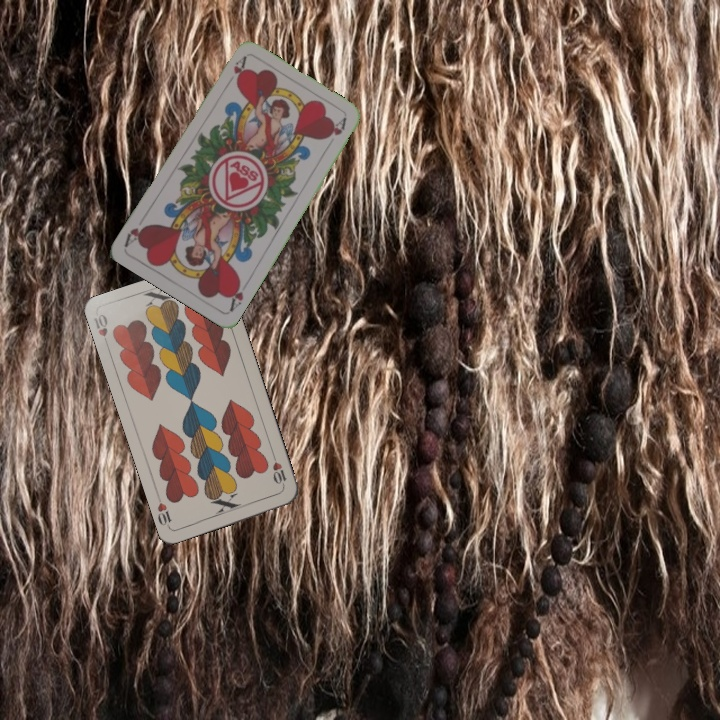H10: (90, 310, 111, 350), (268, 451, 289, 490)
HA: (222, 53, 249, 90), (225, 275, 246, 314)
